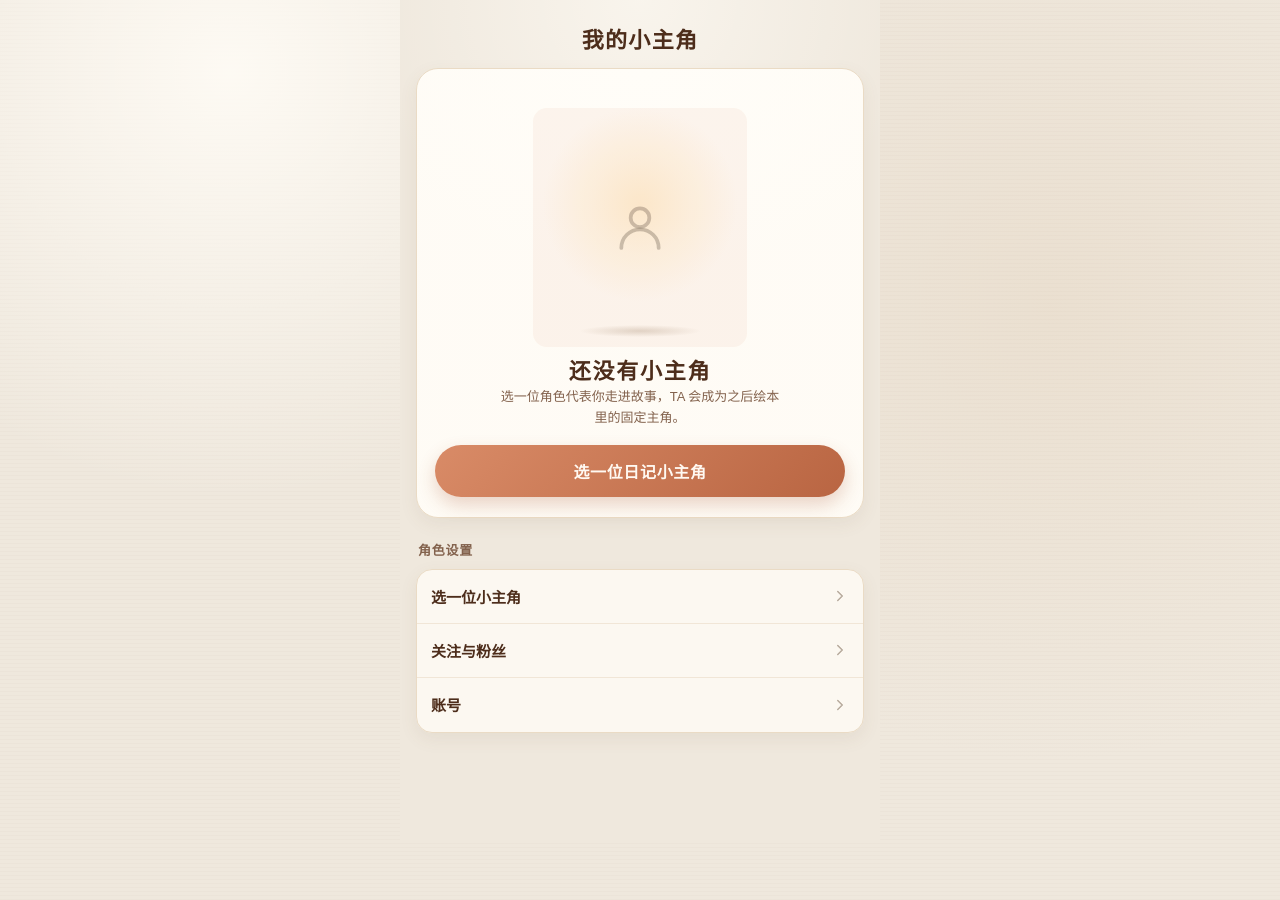
Test case: Mine · 角色创建流程 › entry screen offers both equal creation routes
Click the button "选一位日记小主角": (640, 471) top-left (435, 445), bottom-right (845, 497)
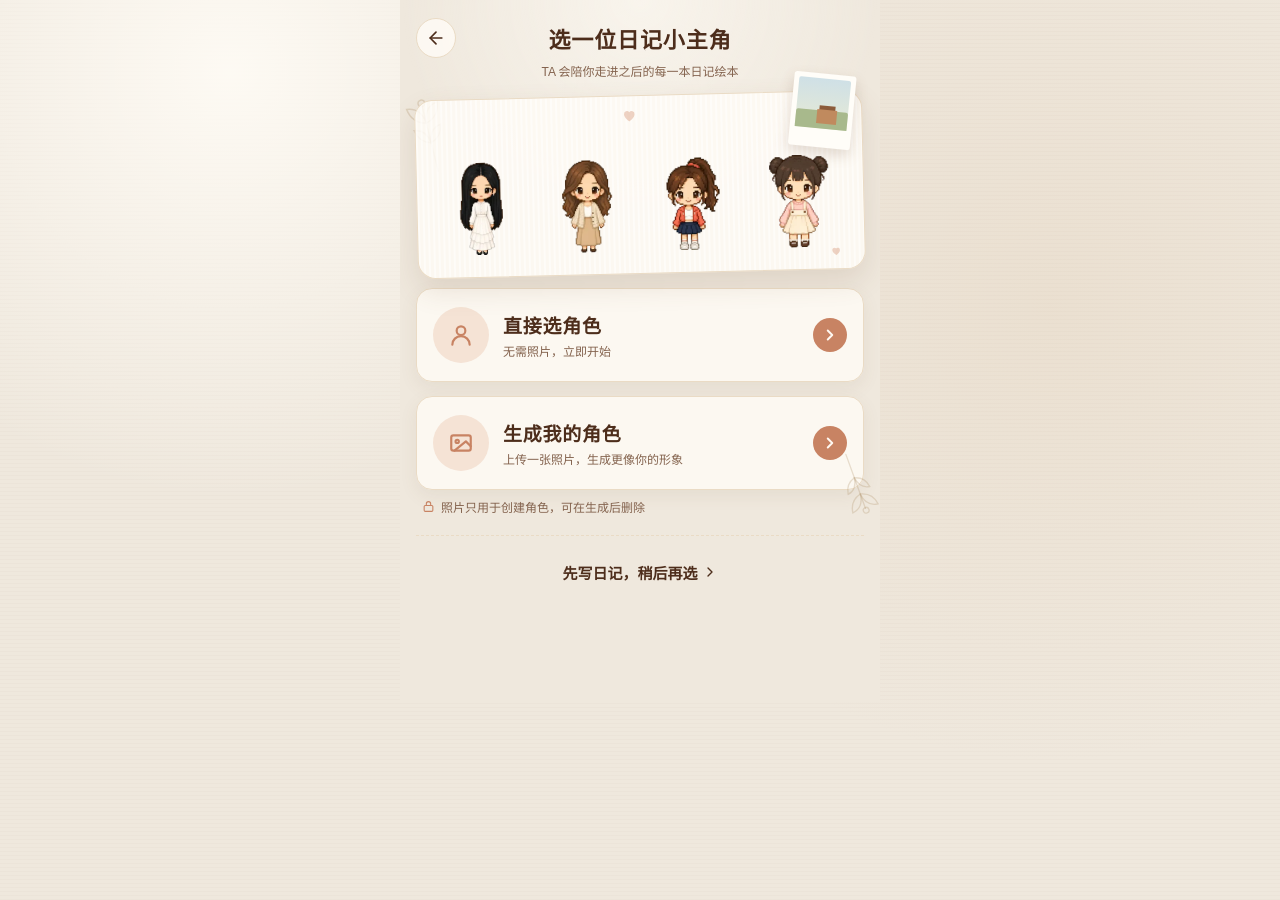
Expected: the text "TA 会陪你走进之后的每一本日记绘本" is shown, top-left (541, 65), bottom-right (738, 79)
Expected: the button "直接选角色 无需照片，立即开始" is shown, top-left (416, 288), bottom-right (864, 382)
Expected: the button "生成我的角色 上传一张照片，生成更像你的形象" is shown, top-left (416, 396), bottom-right (864, 490)
